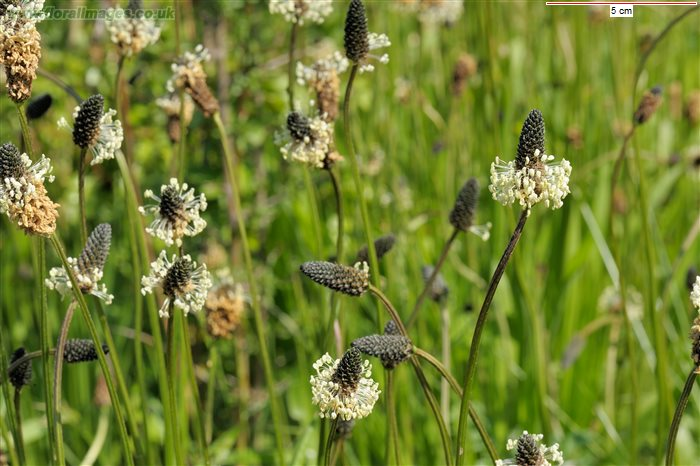buckhorn plantain: (2, 11, 604, 466)
